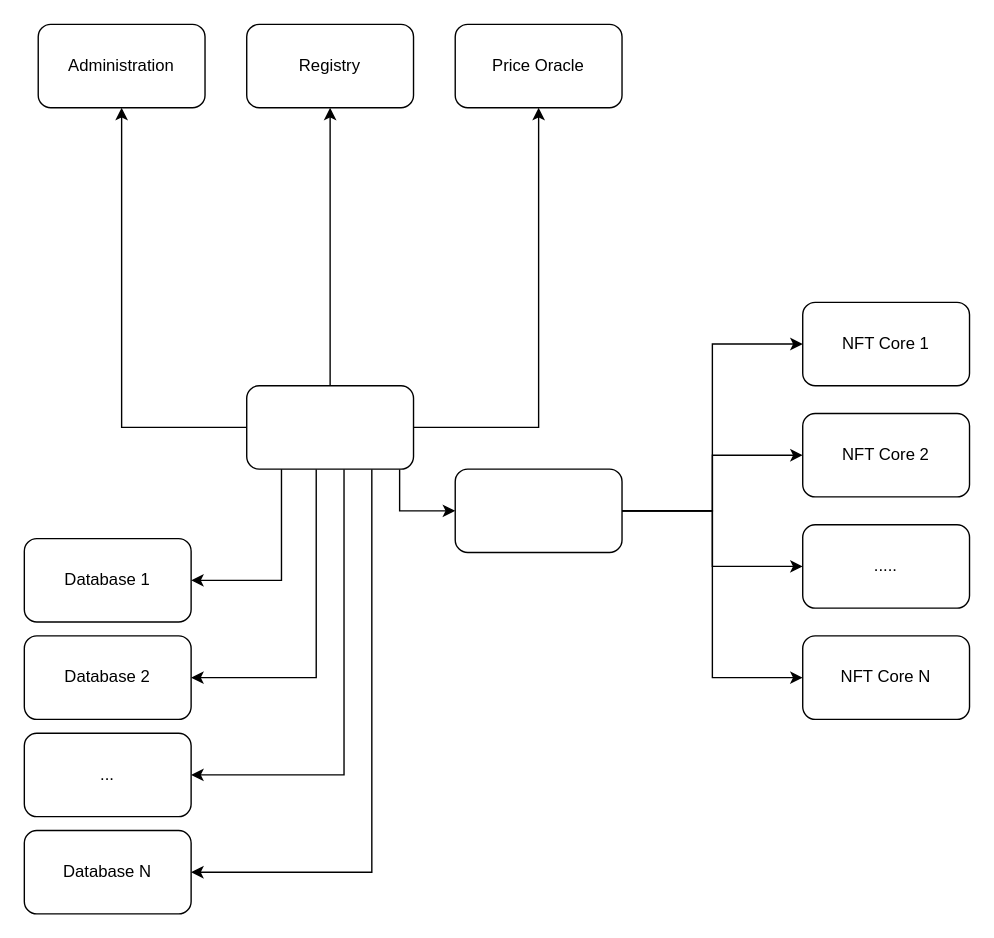
Some shapes in this 994 by 938 pixel diagram are drawn without their labels. The box of each missing label's shape, as (x1, y1, x2, y2) in pixels:
Main: (245, 384, 414, 469)
NFT: (454, 468, 622, 553)
